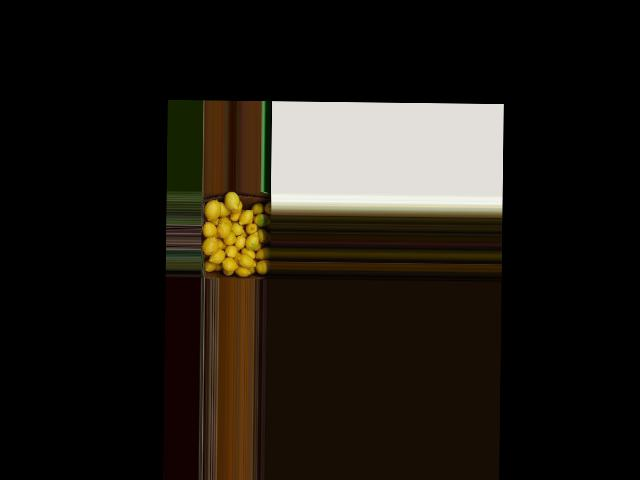lemon: (231, 223, 244, 235)
